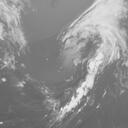cyclone: (61, 29, 107, 88)
